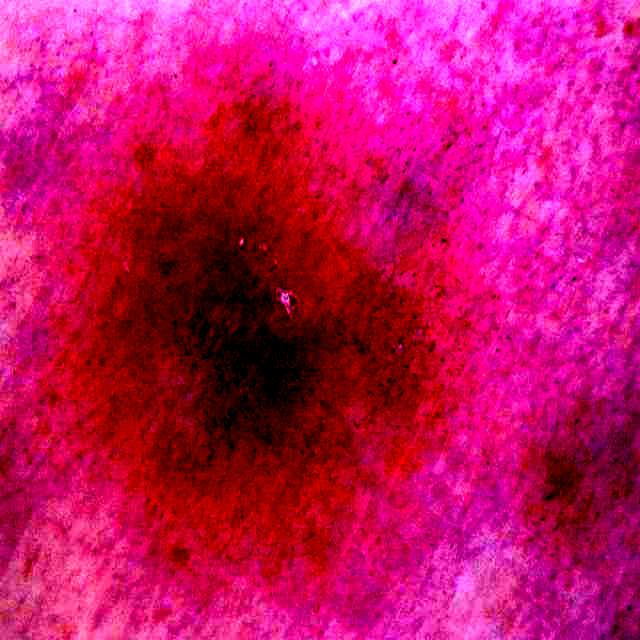DF: (97, 98, 465, 542)
